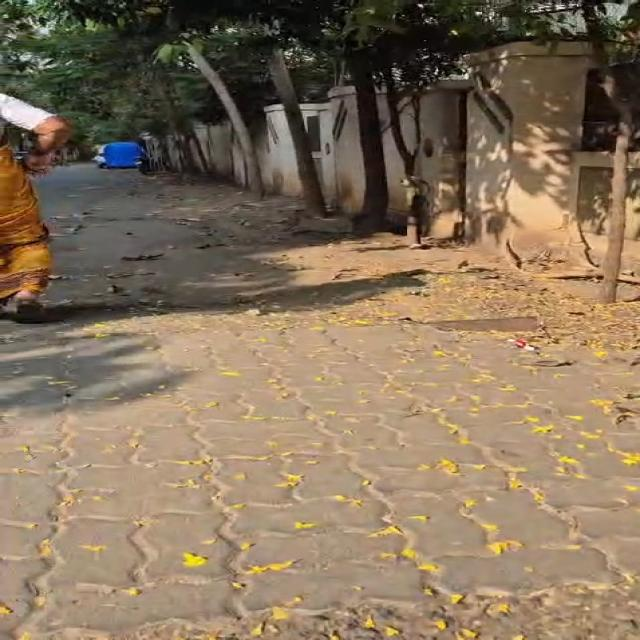obstacle: (582, 0, 634, 303), (187, 43, 265, 197), (270, 47, 326, 217), (383, 70, 427, 248), (347, 50, 389, 231), (600, 105, 634, 303), (154, 72, 195, 172), (383, 71, 417, 177)
